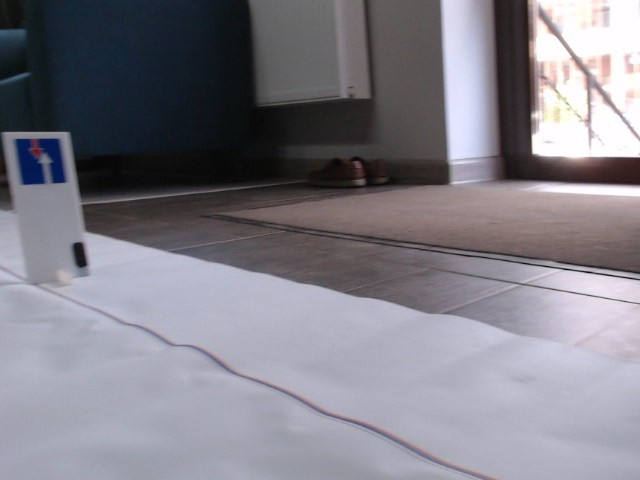priority_movement: (13, 137, 67, 184)
